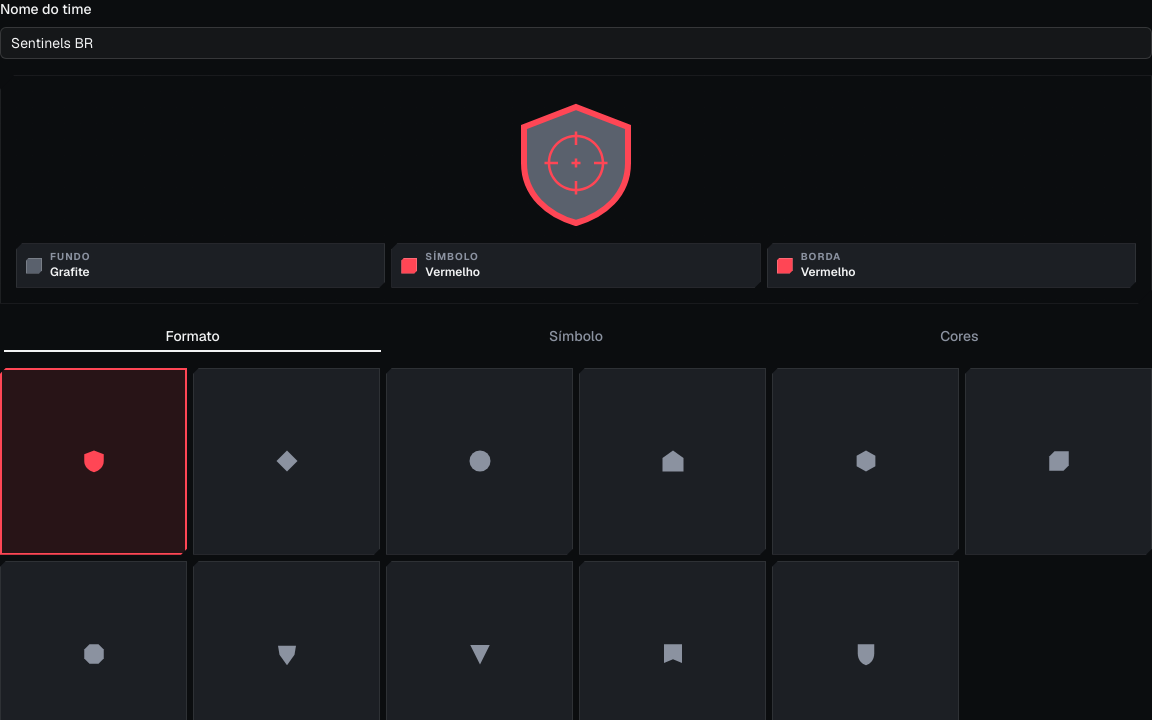
Scenario: TeamIdentityForm › credita os autores dos símbolos, como exige a licença CC BY 3.0
Click the tab "Símbolo".
click(576, 336)  # box [386,323,766,348]
(page scrolled)
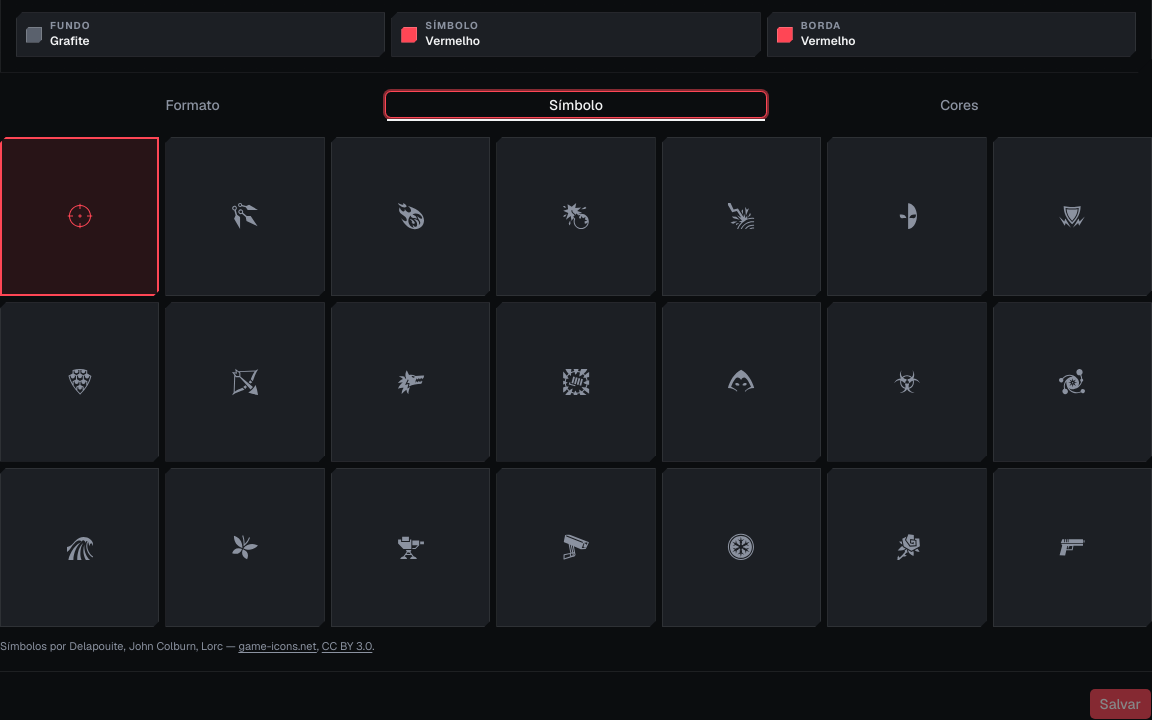
Check: the text "Símbolos por" reads "Símbolos por Delapouite, John Colburn, Lorc — game-icons.net , CC BY 3.0 .", box [69,639,223,653]
